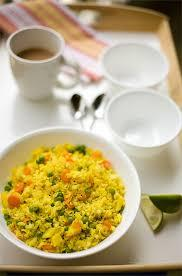poha: (5, 138, 129, 257)
